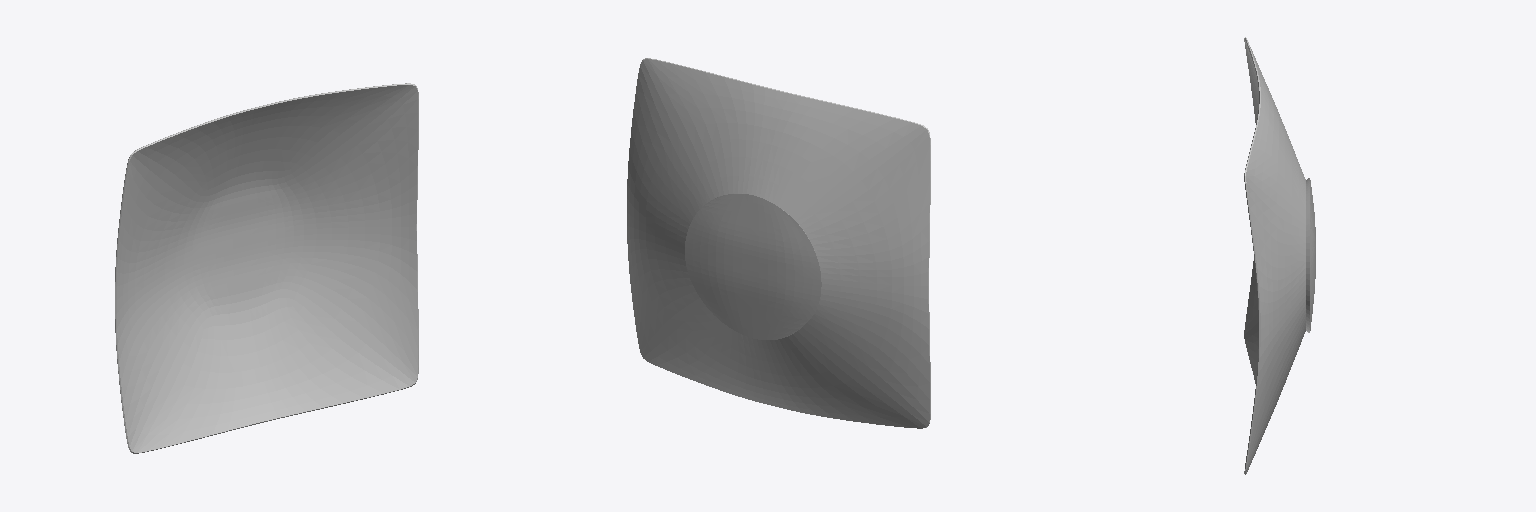
The model's file is plate.obj.
3 views of the same model, side by side, from view 1: azimuth 30°, elevation 25°; view 2: azimuth 150°, elevation 25°; view 3: azimuth 270°, elevation 25° (orthographic).
Visible parts, largest first — view 1: plate001; view 2: plate001; view 3: plate001.
Boxes of the visible parts, box(x1,y1,x2,y2) form: plate001: box(115, 83, 418, 453); plate001: box(627, 58, 930, 428); plate001: box(1244, 37, 1315, 474).
Size of the model in its own units: 368 by 369 by 75.56.